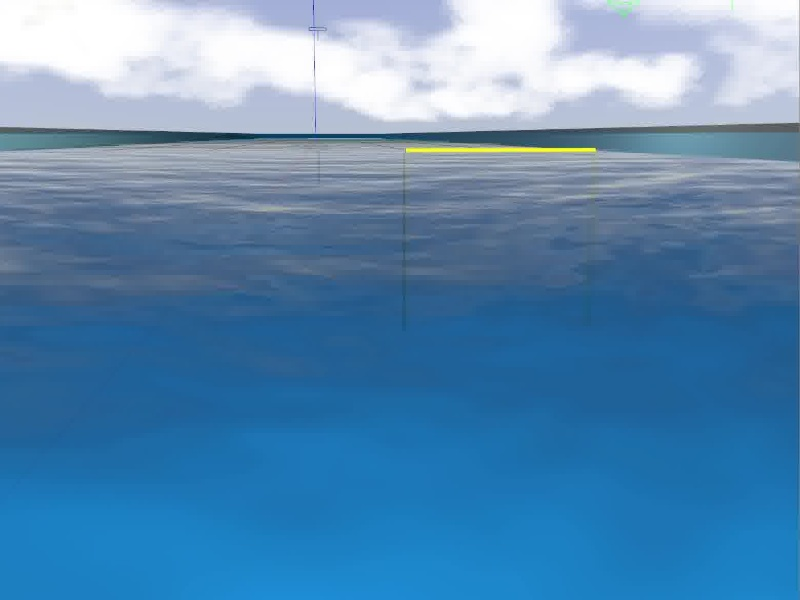gate: (397, 147, 598, 329)
